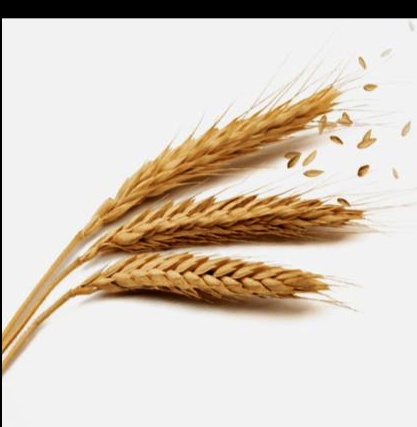wheat: (87, 83, 343, 218), (6, 248, 347, 336), (76, 186, 372, 257)
